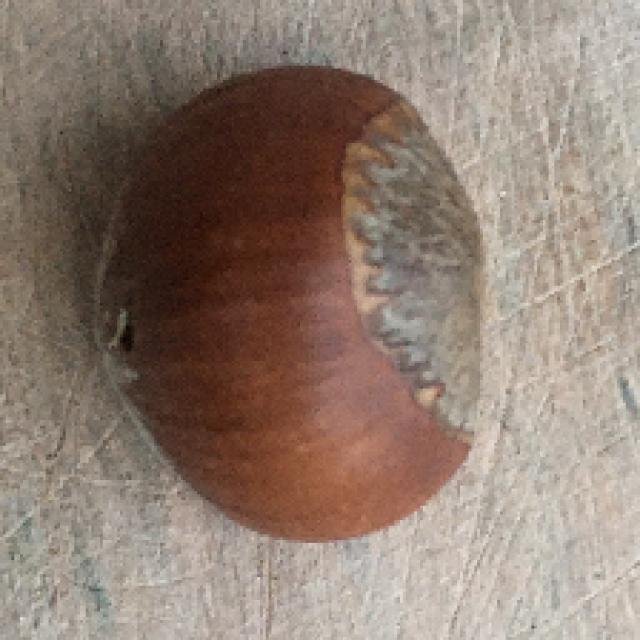qualityHazelnut: (86, 60, 491, 543)
